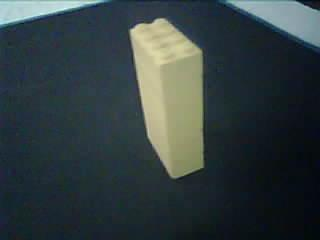lego: (127, 17, 203, 179)
